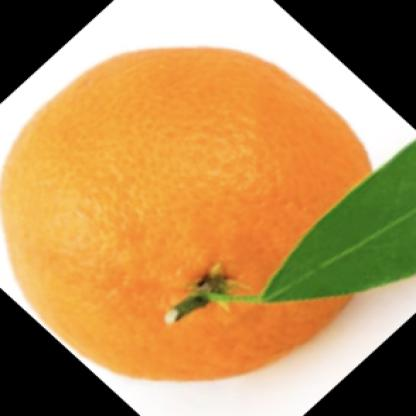fresh: (1, 48, 380, 380)
